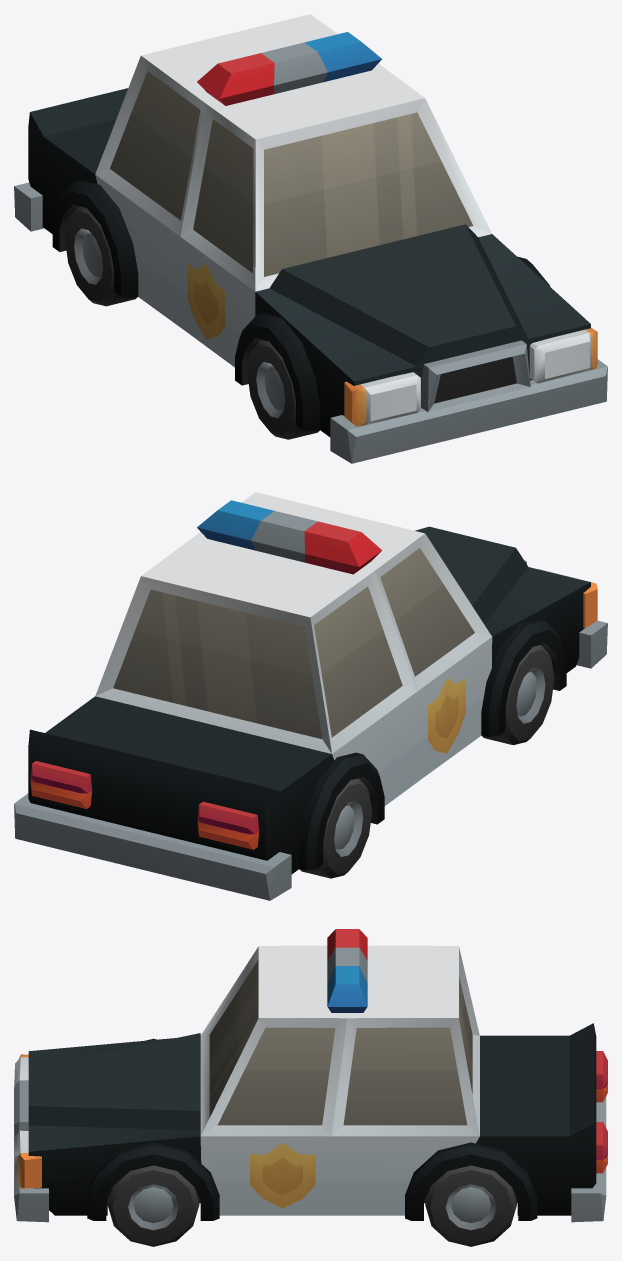
The model's file is policeCar.glb.
The picture shows the model from 3 angles, top to bottom: view 1: azimuth 30°, elevation 25°; view 2: azimuth 150°, elevation 25°; view 3: azimuth 270°, elevation 25°; orthographic projection. The views are drawn at different scales.
Visible parts, largest first — view 1: car_police, car_police_wheel_rear_right, car_police_wheel_front_right; view 2: car_police, car_police_wheel_front_right, car_police_wheel_rear_right; view 3: car_police, car_police_wheel_front_left, car_police_wheel_rear_left.
Part boxes in pixels (x1=…): car_police: x1=14, y1=14, x2=607, y2=463; car_police_wheel_rear_right: x1=65, y1=206, x2=137, y2=306; car_police_wheel_front_right: x1=247, y1=339, x2=319, y2=439; car_police: x1=14, y1=492, x2=607, y2=900; car_police_wheel_front_right: x1=482, y1=645, x2=554, y2=745; car_police_wheel_rear_right: x1=299, y1=778, x2=372, y2=878; car_police: x1=14, y1=929, x2=607, y2=1222; car_police_wheel_front_left: x1=107, y1=1165, x2=199, y2=1246; car_police_wheel_rear_left: x1=425, y1=1165, x2=516, y2=1246.
Size of the model in its own units: 0.419 by 0.4126 by 0.9381.
Materials: 1 (1 with a texture image).
